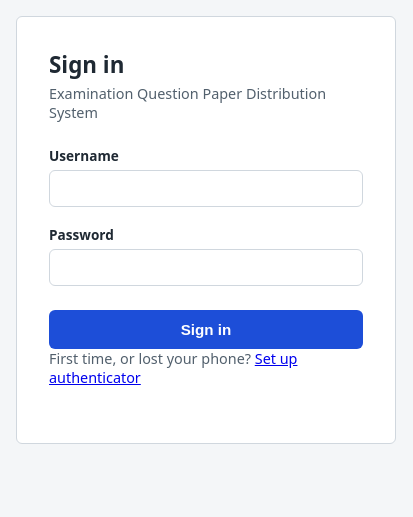
Test: LoginPage › displays the backend's error message on invalid credentials
Type "admin1" into the field labelled "Username". click: x=206, y=189
box: left=49, top=170, right=363, bottom=207
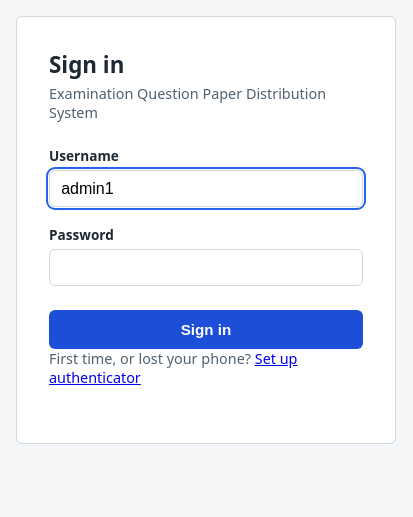
Type "wrong-password" into the password field labelled "Password". click: x=206, y=268
box: left=49, top=249, right=363, bottom=286
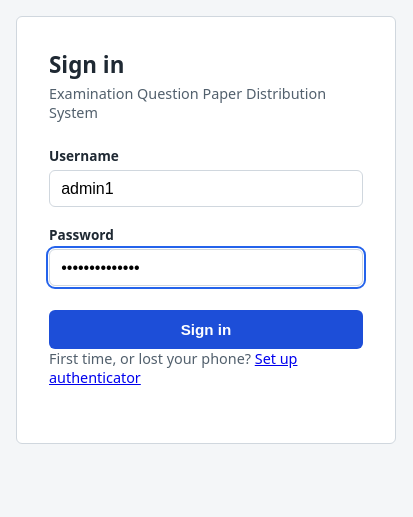
Click the button "Sign in". click: x=206, y=330
box: left=49, top=310, right=363, bottom=349
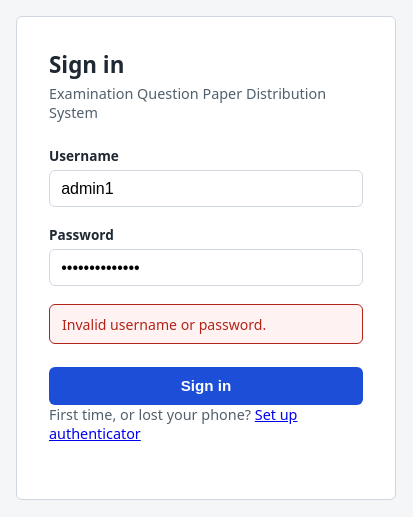
Result: the message reads "Invalid username or password." at left=62, top=315, right=266, bottom=334
